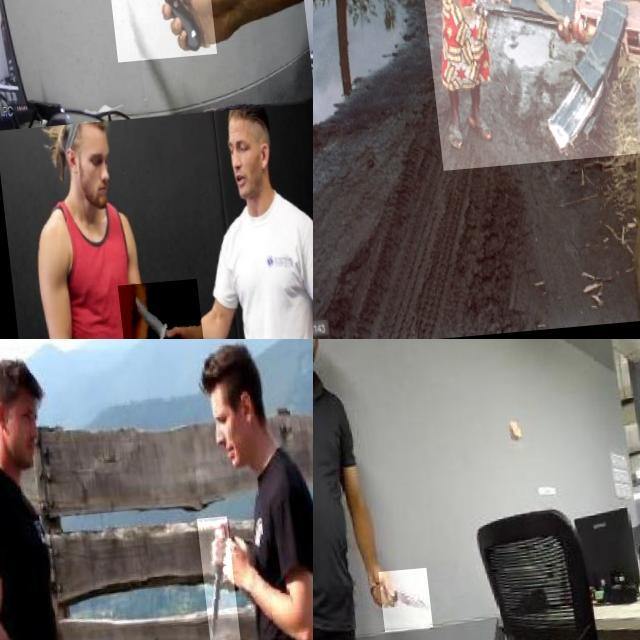-: (96, 0, 211, 91), (106, 282, 193, 339), (191, 522, 232, 640), (370, 574, 422, 636)
gun-knife-thesis - v11 Yolov5 augmented: (415, 0, 640, 174)
